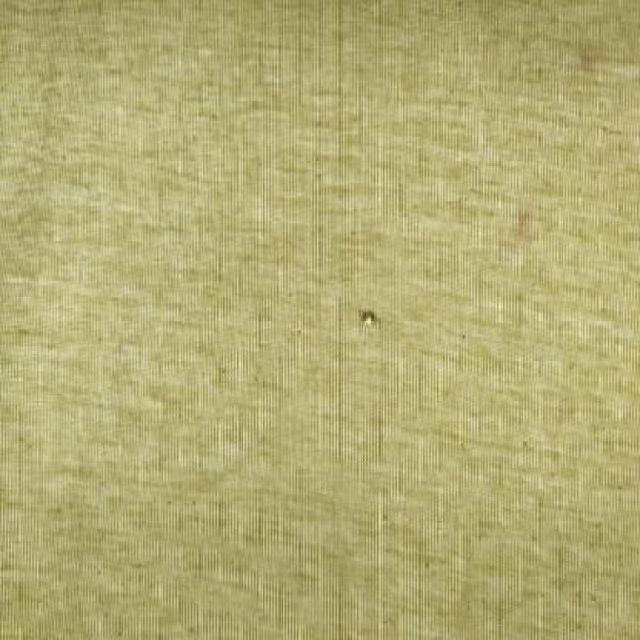seam: (204, 210, 524, 440)
